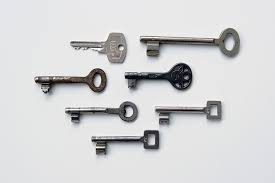key: (136, 29, 246, 59), (30, 66, 113, 96), (123, 62, 198, 93), (154, 99, 227, 128), (91, 129, 164, 156), (70, 32, 128, 64), (64, 100, 141, 123)
